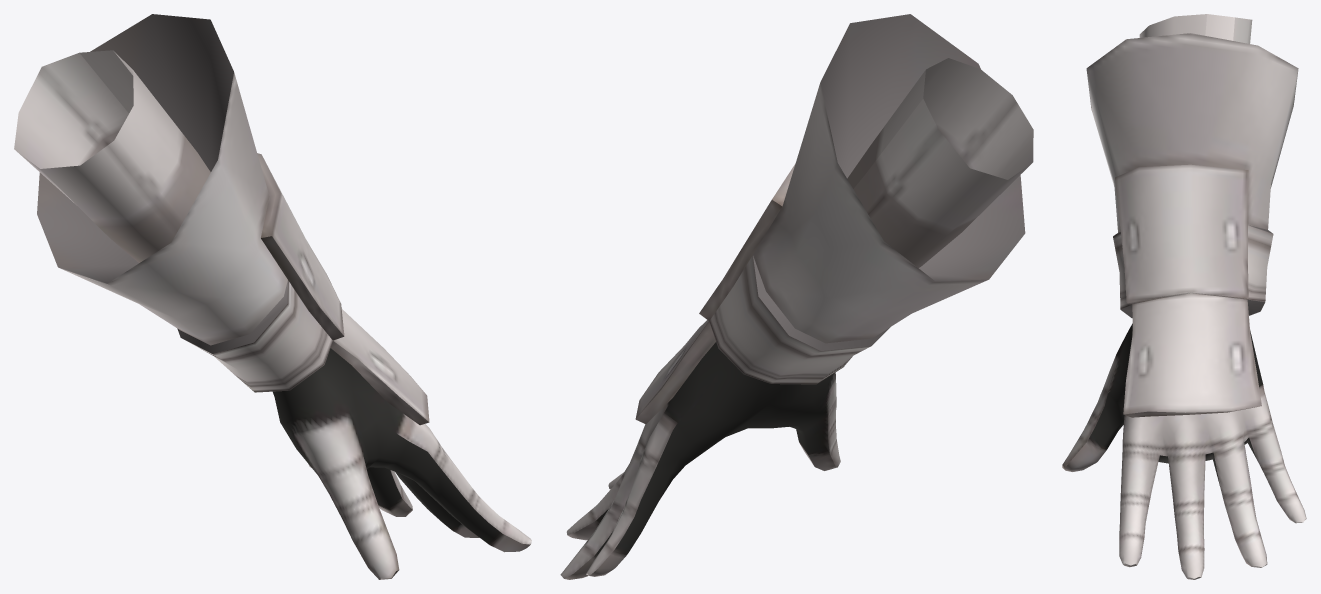
File: Lily_Brazo.obj
3 views of the same model, side by side, from view 1: azimuth 30°, elevation 25°; view 2: azimuth 150°, elevation 25°; view 3: azimuth 270°, elevation 25° (orthographic). The views are drawn at different scales.
Visible parts, largest first — view 1: 1.001_Mesh.001; view 2: 1.001_Mesh.001; view 3: 1.001_Mesh.001.
Boxes of the visible parts, box(x1,y1,x2,y2) form: 1.001_Mesh.001: box(14, 14, 531, 579); 1.001_Mesh.001: box(560, 14, 1033, 579); 1.001_Mesh.001: box(1062, 14, 1306, 579).
Bounding box in the file's own units: 0.2071 × 0.2515 × 0.1249.
